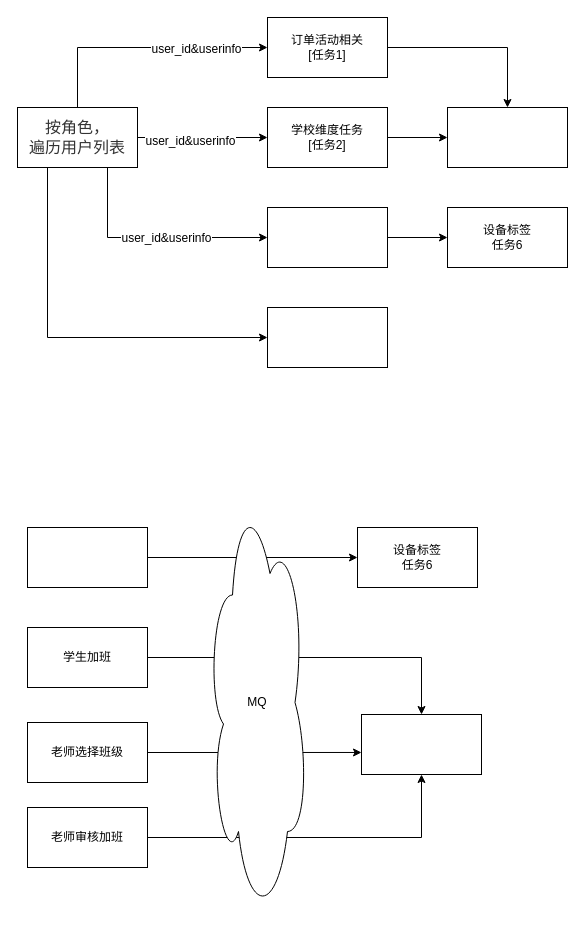
Image size: 585x935. Some labels were removed from this diagram. The shapes that lost their labels are listed below. From the top down, each one's box as (x1, y1, x2, y2) in pixels, then its label:
(446, 106, 568, 168): 会员状态相关 [4]
(266, 206, 388, 268): 基础信息 任务3
(266, 306, 388, 368): 班级信息 [任务5]
(26, 526, 148, 588): 注册和登录
(360, 714, 482, 774): 班级标签变更
